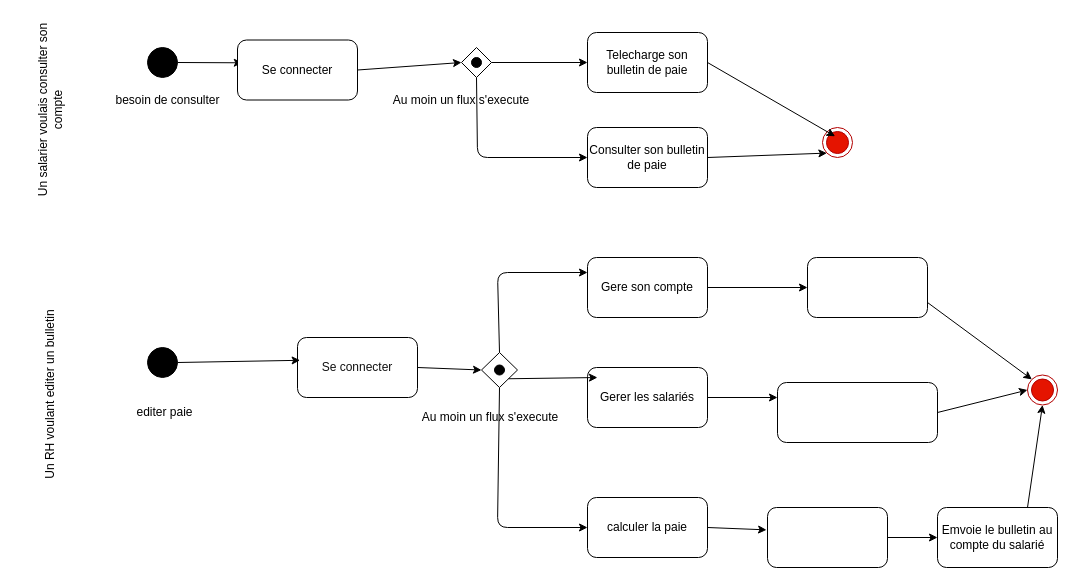
This 1075x585 diagram has some shape labels left out. The centre of each missing label's shape, as x and y in pixels:
Ajouter, Modifier ,supprimer, chercher un salarier: the point at 857,412
Desactive son compte: the point at 867,287
editer un bulletin de paie: the point at 827,537
